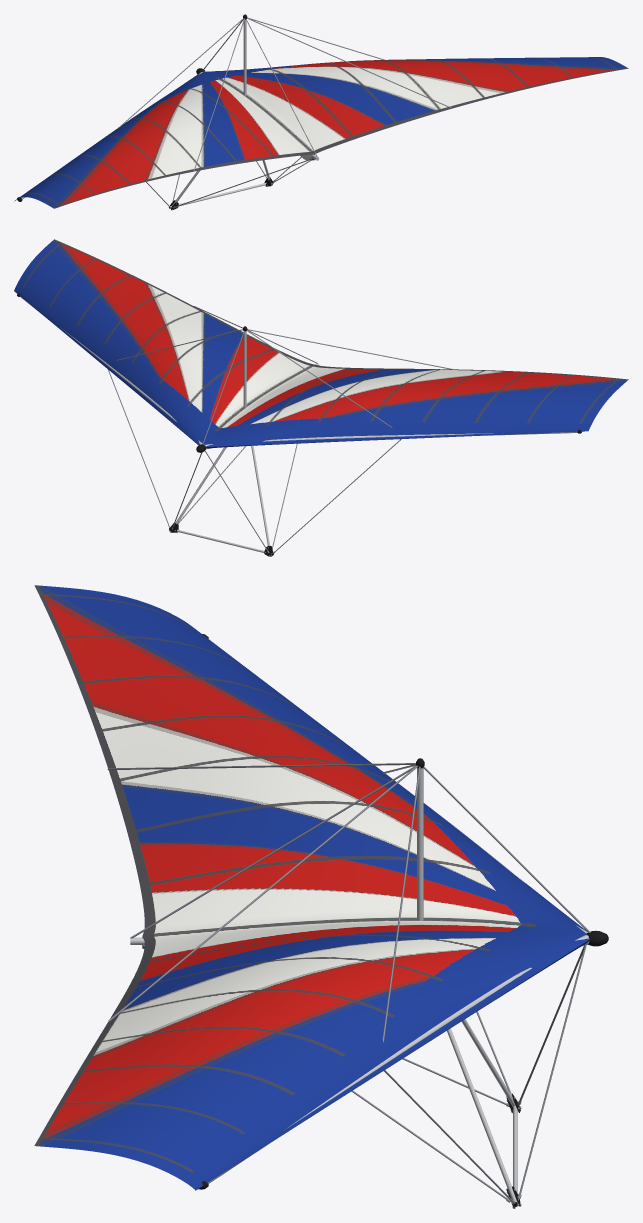
Rendered from glider_slavutich_ut.glb.
The picture shows the model from 3 angles, top to bottom: view 1: azimuth 30°, elevation 25°; view 2: azimuth 150°, elevation 25°; view 3: azimuth 270°, elevation 25°; orthographic projection. The views are drawn at different scales.
Parts seen in each view (by area): view 1: Sail, Frame, ControlFrame; view 2: Sail, Frame, ControlFrame; view 3: Sail, Frame, ControlFrame.
Part boxes in pixels (bbox=[...]): Sail: bbox=[14, 57, 628, 208]; Frame: bbox=[17, 14, 452, 201]; ControlFrame: bbox=[146, 157, 313, 210]; Sail: bbox=[14, 239, 628, 448]; Frame: bbox=[17, 293, 581, 452]; ControlFrame: bbox=[108, 369, 401, 556]; Sail: bbox=[34, 585, 589, 1190]; Frame: bbox=[107, 634, 608, 1189]; ControlFrame: bbox=[142, 944, 586, 1208].
Bounding box in the file's own units: 8.81 × 2.95 × 3.81.
7 materials, 1 textured.
